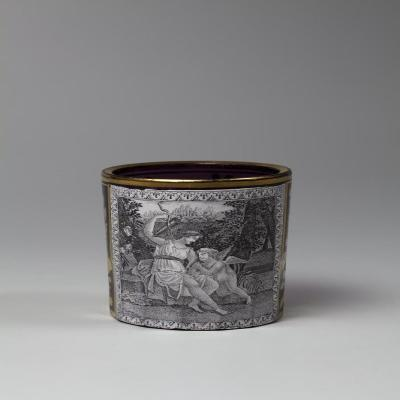dpi: (101, 161, 292, 333)
